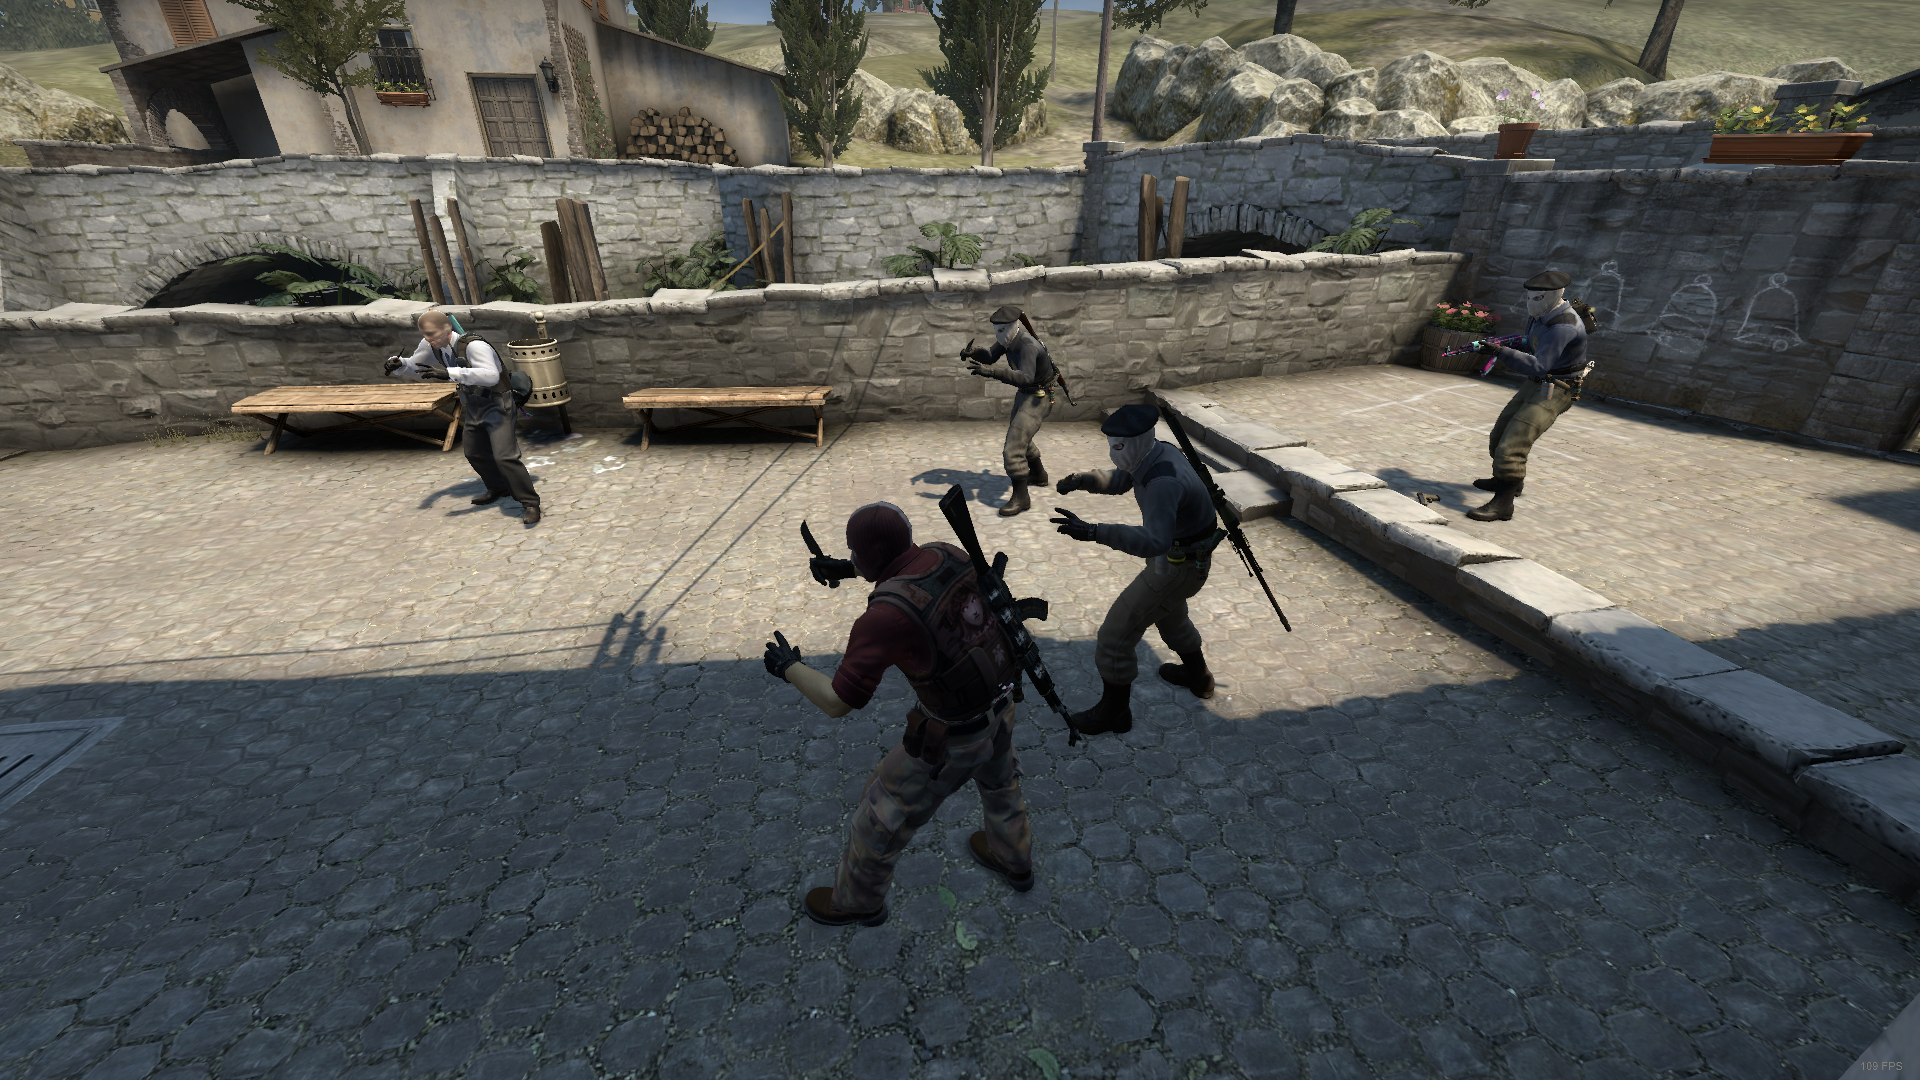t: (1055, 400, 1226, 750), (1465, 270, 1609, 527), (961, 301, 1048, 512)
